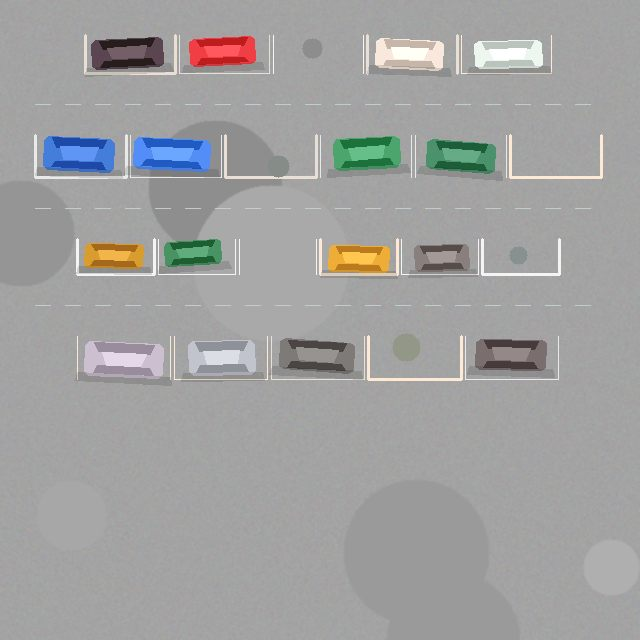space-empty: (368, 336, 461, 379), (225, 135, 316, 177), (510, 135, 601, 177), (273, 35, 363, 73), (239, 239, 316, 274), (482, 239, 559, 274)
space-occupied: (77, 336, 170, 379), (174, 336, 267, 379), (271, 336, 364, 379), (465, 336, 558, 379), (35, 135, 126, 177), (130, 135, 221, 177), (320, 135, 411, 177), (415, 135, 506, 177), (85, 35, 175, 73), (179, 35, 269, 73), (367, 35, 457, 73), (461, 35, 551, 73), (77, 239, 154, 274), (158, 239, 235, 274), (320, 239, 397, 274), (401, 239, 478, 274)
